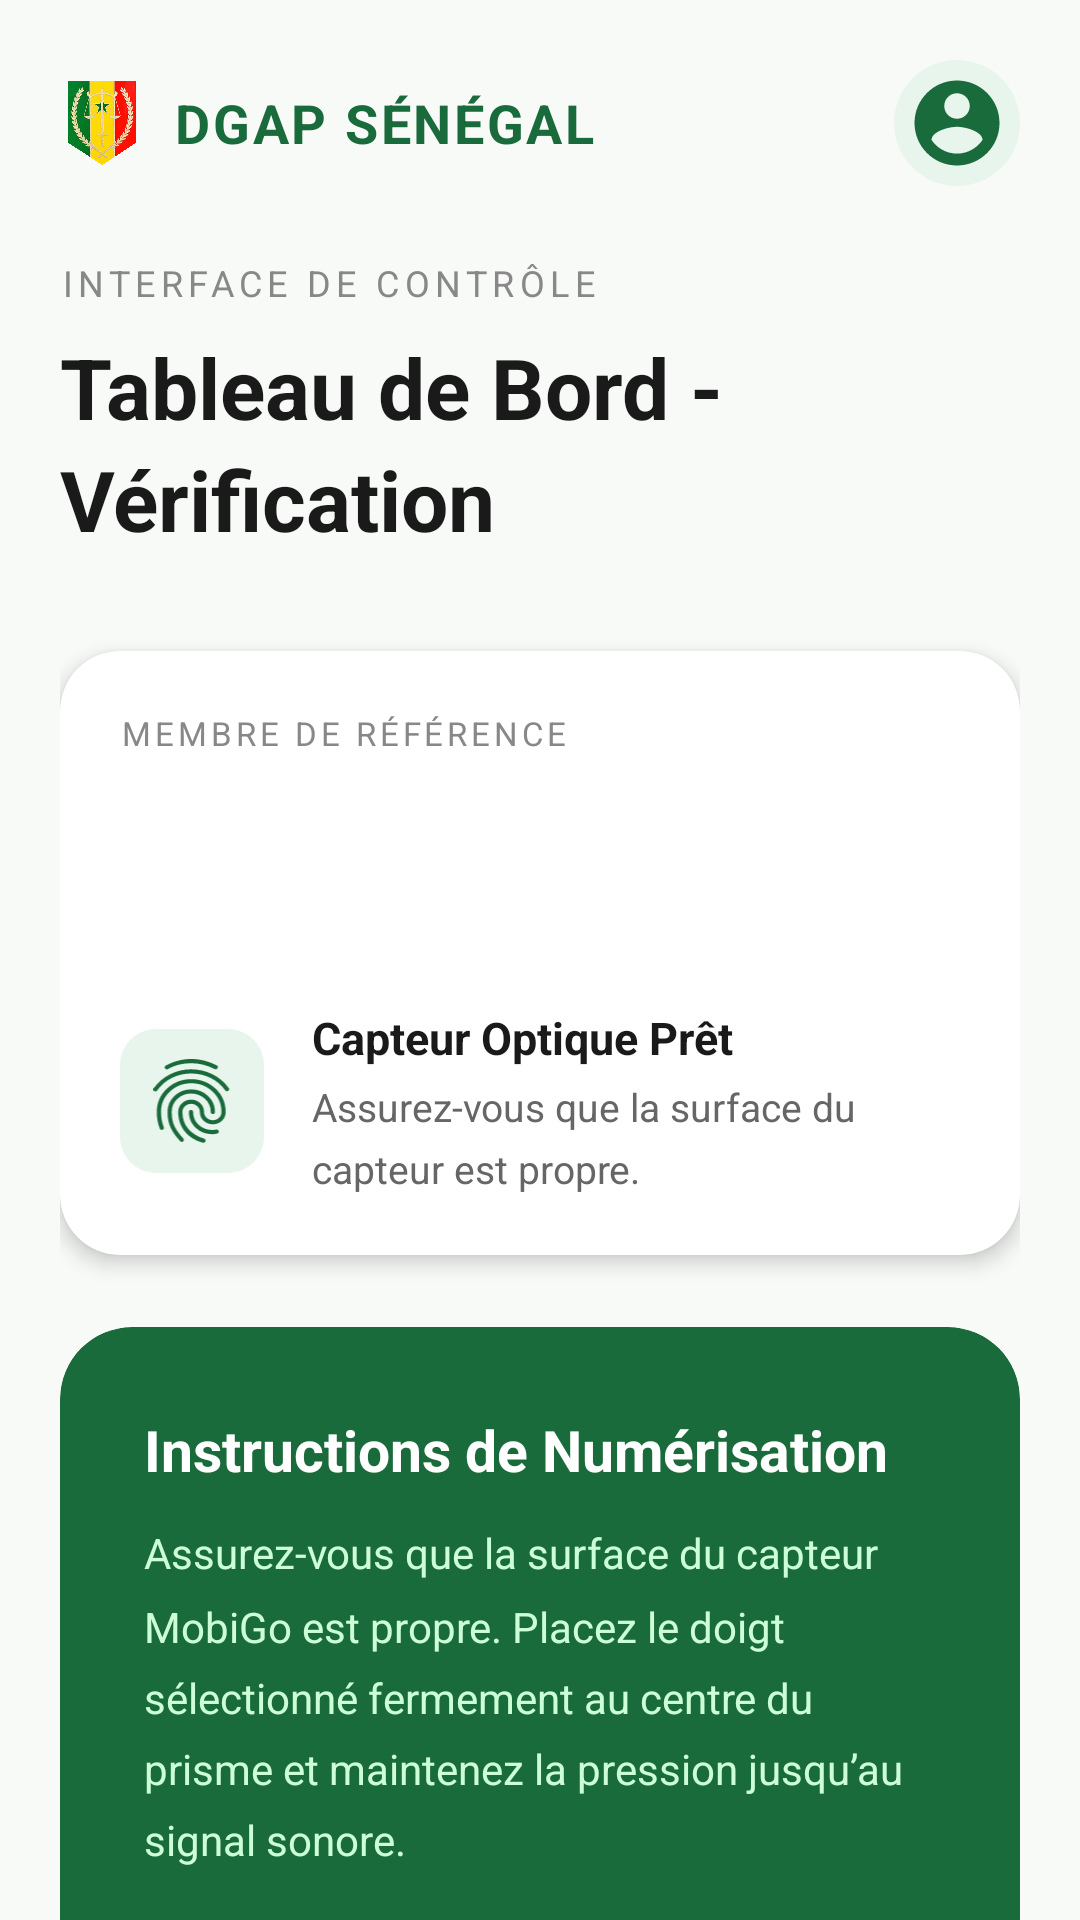

Named icons in this screenshot (1080*1920) and their bounding boxes, (x1, y1, x2, y2):
profil: (914, 80, 1000, 166)
